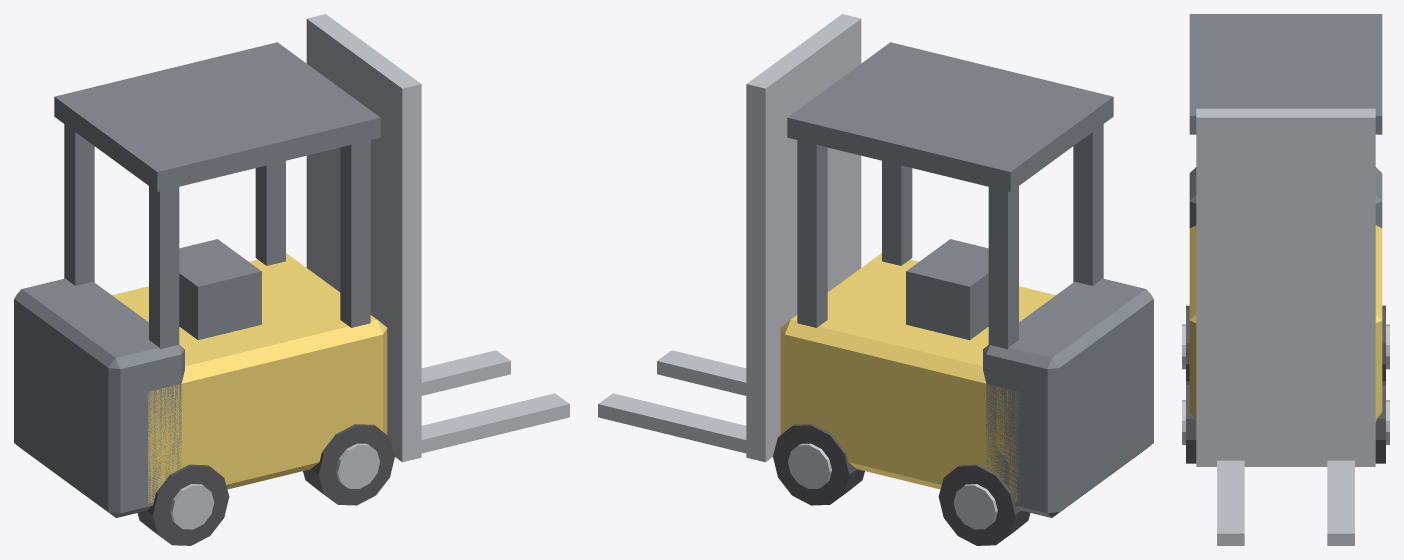
The model's file is Forklift.fbx.
3 views of the same model, side by side, from view 1: azimuth 30°, elevation 25°; view 2: azimuth 150°, elevation 25°; view 3: azimuth 270°, elevation 25° (orthographic). The views are drawn at different scales.
Parts seen in each view (by area): view 1: Forklift; view 2: Forklift; view 3: Forklift.
Part boxes in pixels (bbox=[...]): Forklift: bbox=[14, 14, 569, 545]; Forklift: bbox=[598, 14, 1153, 545]; Forklift: bbox=[1182, 14, 1389, 545].
Bounding box in the file's own units: 0.37 × 0.3 × 0.151.
